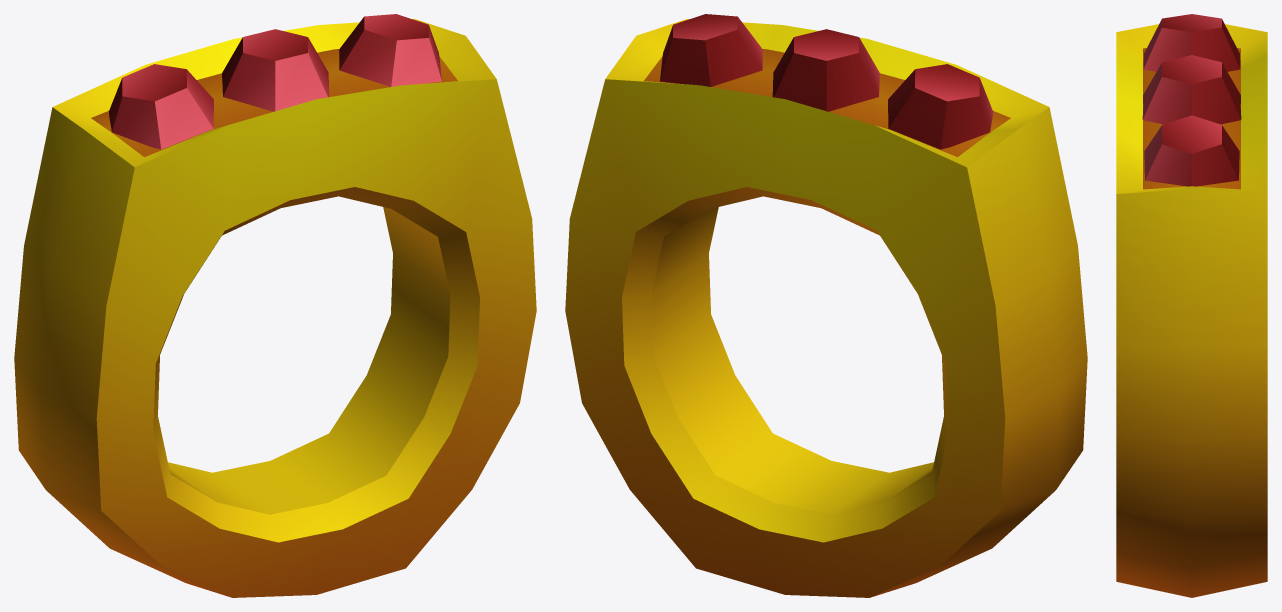
The model's file is Gold_Gem_Ring_02.glb.
3 renders of one model, left to right at view 1: azimuth 30°, elevation 25°; view 2: azimuth 150°, elevation 25°; view 3: azimuth 270°, elevation 25°, orthographic. The views are drawn at different scales.
Visible parts, largest first — view 1: Gold_Gem_Ring_02; view 2: Gold_Gem_Ring_02; view 3: Gold_Gem_Ring_02.
Part boxes in pixels (left/top/right/bottom): Gold_Gem_Ring_02: left=14, top=14, right=536, bottom=597; Gold_Gem_Ring_02: left=565, top=14, right=1087, bottom=597; Gold_Gem_Ring_02: left=1116, top=14, right=1267, bottom=597.
Size of the model in its own units: 0.4853 by 0.529 by 0.1478.
1 material, 1 textured.
